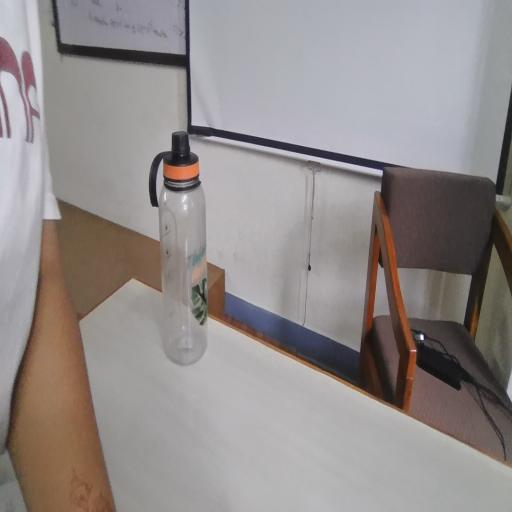Bottle: (148, 130, 224, 377)
